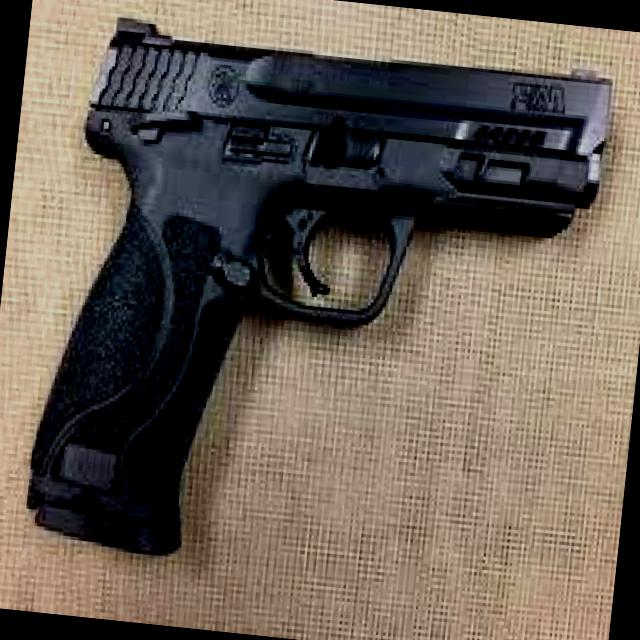semi automatic: (0, 0, 634, 619)
